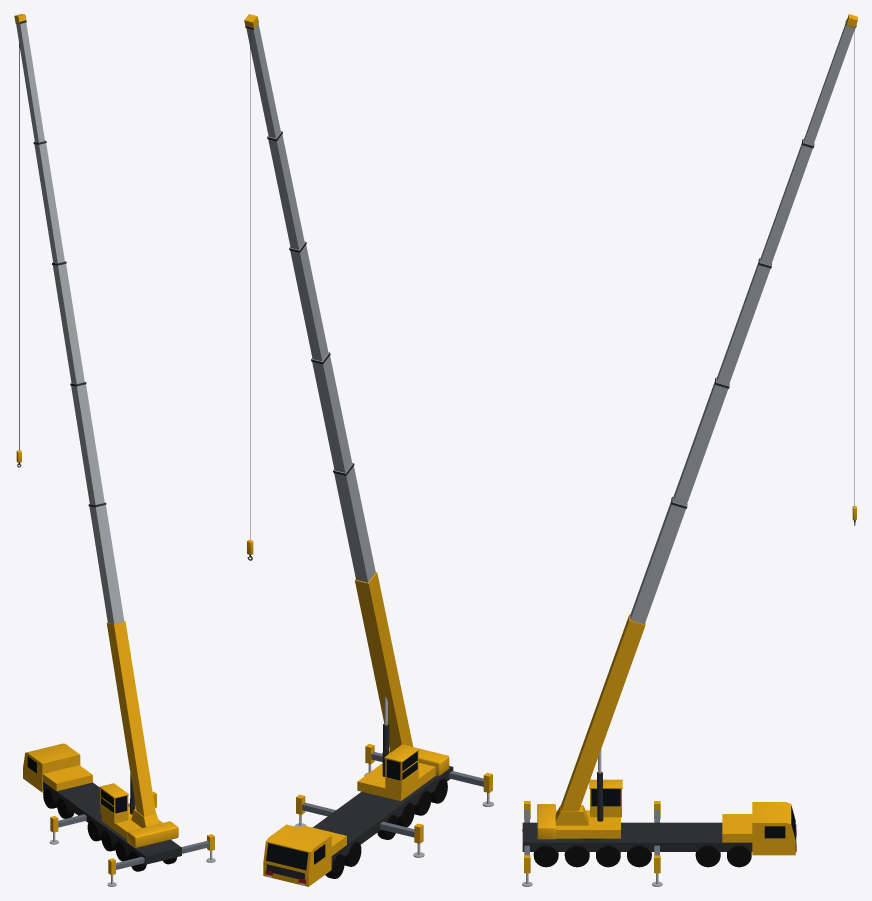
The model's file is plant.lifting.mobile_crane_6_axle.glb.
3 views of the same model, side by side, from view 1: azimuth 30°, elevation 25°; view 2: azimuth 150°, elevation 25°; view 3: azimuth 270°, elevation 25° (orthographic). The views are drawn at different scales.
Visible parts, largest first — view 1: boom__steel_galvanised, boom__plant_yellow, carrier__steel_dark, carrier__plant_yellow, upper__plant_yellow, wheels__rubber, outriggers__steel_painted, outriggers__plant_yellow, hook__steel_dark; view 2: boom__steel_galvanised, boom__plant_yellow, carrier__steel_dark, upper__plant_yellow, carrier__plant_yellow, wheels__rubber, outriggers__steel_painted, carrier__glass_dark, outriggers__plant_yellow, upper__glass_dark, boom__steel_dark, hook__steel_dark; view 3: boom__steel_galvanised, carrier__steel_dark, boom__plant_yellow, upper__plant_yellow, carrier__plant_yellow, wheels__rubber.
Part boxes in pixels (box(x1,y1,x2,y2)): boom__steel_galvanised: box(16, 22, 124, 623); boom__plant_yellow: box(14, 14, 155, 816); carrier__steel_dark: box(43, 782, 181, 864); carrier__plant_yellow: box(23, 743, 92, 792); upper__plant_yellow: box(99, 783, 178, 847); wheels__rubber: box(43, 788, 176, 871); outriggers__steel_painted: box(58, 803, 209, 869); outriggers__plant_yellow: box(50, 792, 214, 875); hook__steel_dark: box(17, 43, 21, 467); boom__steel_galvanised: box(246, 24, 375, 582); boom__plant_yellow: box(244, 14, 413, 752); carrier__steel_dark: box(266, 766, 453, 879); upper__plant_yellow: box(357, 744, 449, 801); carrier__plant_yellow: box(263, 824, 346, 886); wheels__rubber: box(325, 778, 447, 878); outriggers__steel_painted: box(302, 752, 483, 837); carrier__glass_dark: box(266, 843, 325, 870); outriggers__plant_yellow: box(296, 744, 492, 843); upper__glass_dark: box(386, 751, 417, 780); boom__steel_dark: box(245, 21, 389, 776); hook__steel_dark: box(247, 31, 252, 560); boom__steel_galvanised: box(630, 20, 855, 624); carrier__steel_dark: box(522, 822, 796, 851); boom__plant_yellow: box(561, 14, 857, 811); upper__plant_yellow: box(537, 779, 622, 839); carrier__plant_yellow: box(722, 802, 795, 855); wheels__rubber: box(533, 845, 751, 867).
Bounding box in the file's own units: 7.35 × 49.41 × 17.83.
